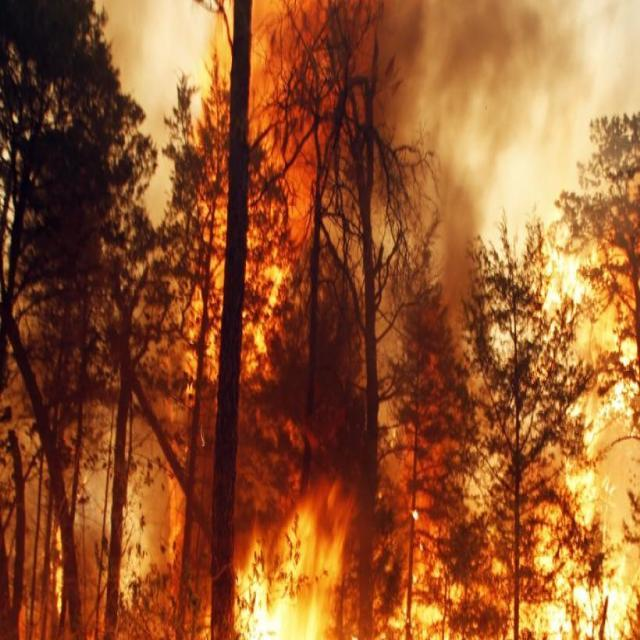Fire: (188, 0, 344, 402), (525, 373, 640, 639), (220, 462, 355, 640), (162, 450, 213, 640), (50, 514, 70, 618)
Smoke: (334, 0, 600, 360)
